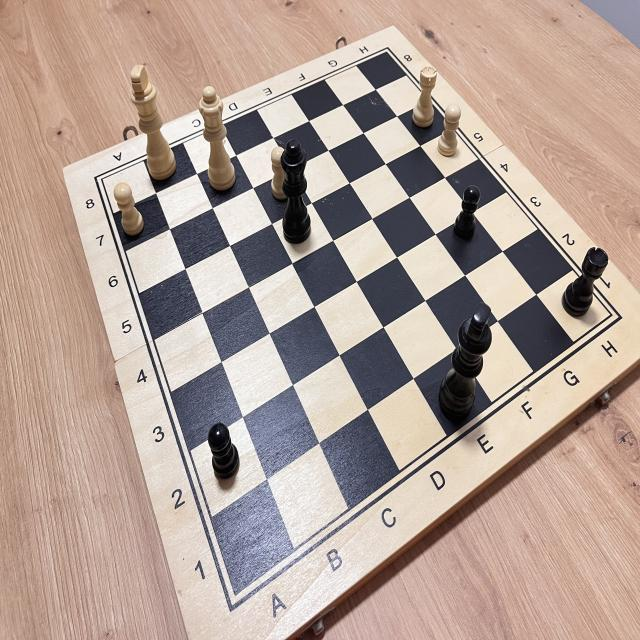black-king: (432, 298, 499, 436)
black-pawn: (202, 415, 245, 488), (447, 174, 485, 251)
black-queen: (276, 129, 314, 249)
black-rook: (557, 238, 612, 324)
white-king: (122, 56, 180, 192)
white-pawn: (107, 175, 153, 242), (260, 138, 302, 205), (435, 101, 466, 161)
white-queen: (192, 78, 240, 196)
white-rook: (409, 61, 447, 141)
